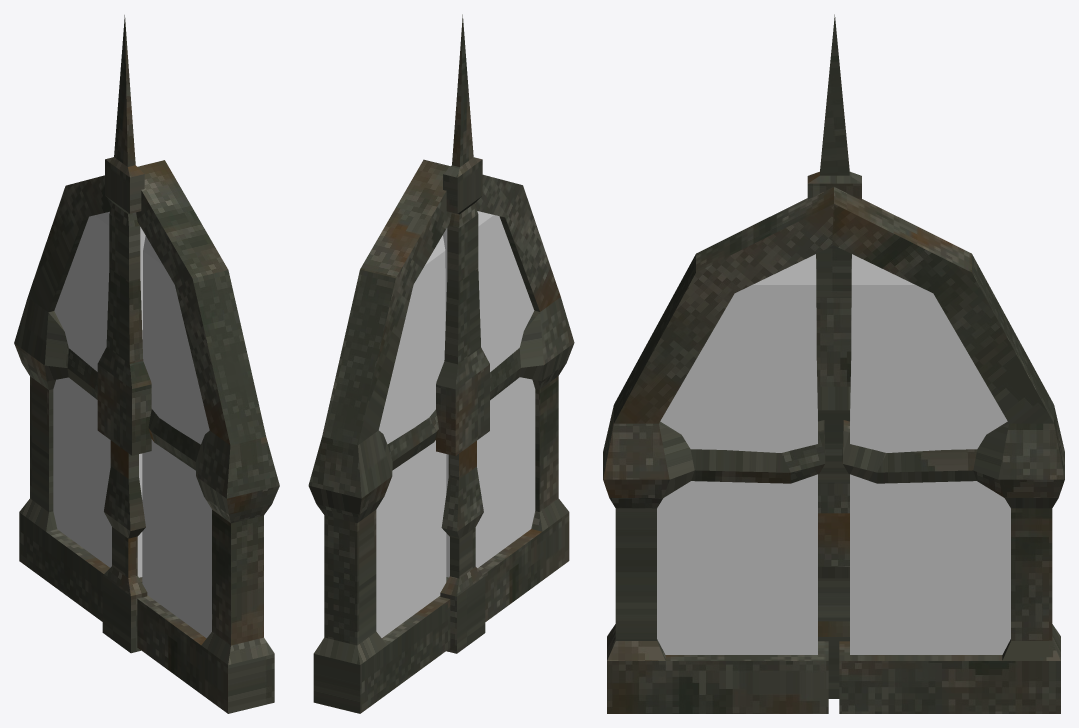
Rendered from window_wt.fbx.
3 views of the same model, side by side, from view 1: azimuth 30°, elevation 25°; view 2: azimuth 150°, elevation 25°; view 3: azimuth 270°, elevation 25° (orthographic). The views are drawn at different scales.
Visible parts, largest first — view 1: Cube.006; view 2: Cube.006; view 3: Cube.006.
Boxes of the visible parts, bbox=[...] form: Cube.006: bbox=[14, 15, 279, 713]; Cube.006: bbox=[308, 14, 574, 713]; Cube.006: bbox=[603, 14, 1064, 713].
Size of the model in its own units: 169 by 1739 by 1070.
